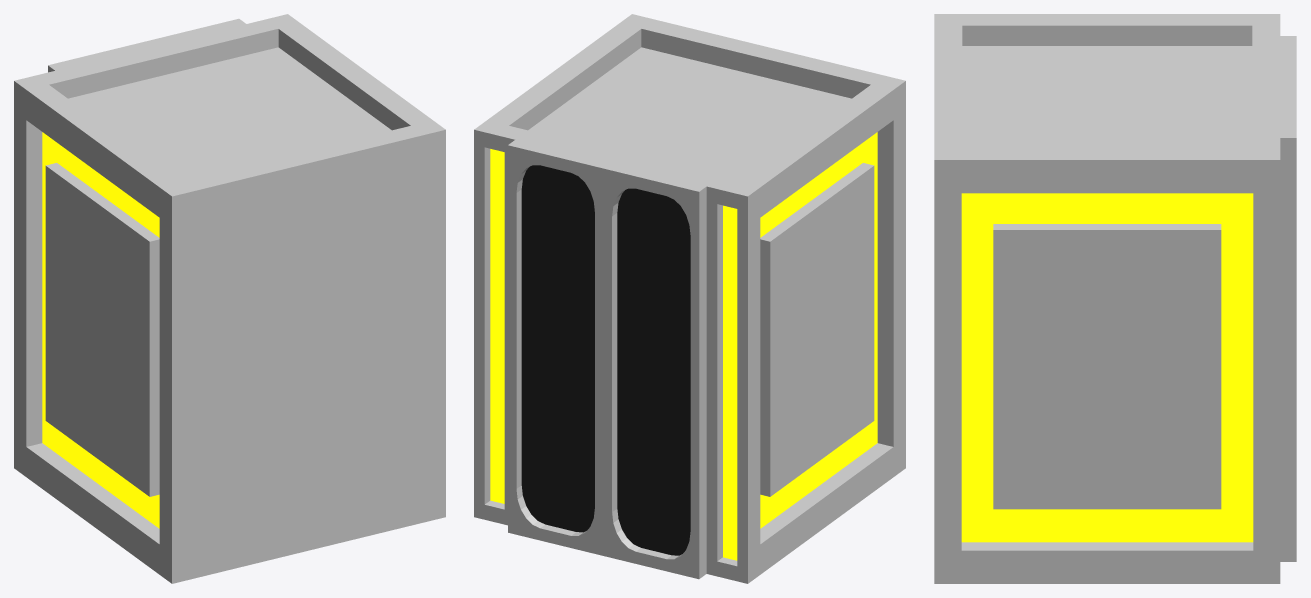
Rendered from Inactive_Lift.fbx.
3 views of the same model, side by side, from view 1: azimuth 30°, elevation 25°; view 2: azimuth 150°, elevation 25°; view 3: azimuth 270°, elevation 25° (orthographic). The views are drawn at different scales.
Parts seen in each view (by area): view 1: Lift Inactive; view 2: Lift Inactive; view 3: Lift Inactive.
Part boxes in pixels (x1=…): Lift Inactive: x1=14, y1=14, x2=445, y2=583; Lift Inactive: x1=474, y1=14, x2=905, y2=583; Lift Inactive: x1=934, y1=14, x2=1296, y2=583.
Size of the model in its own units: 3.8 by 5.14 by 3.98.
